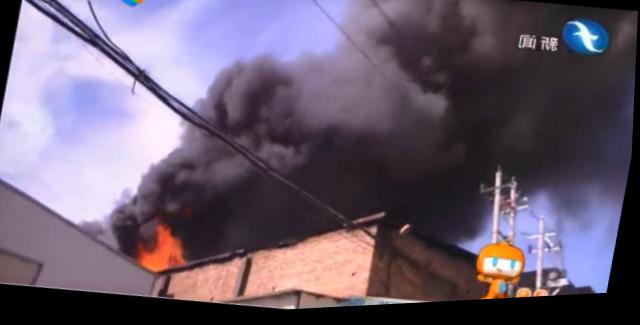fire: (157, 226, 192, 273), (141, 250, 163, 274)
